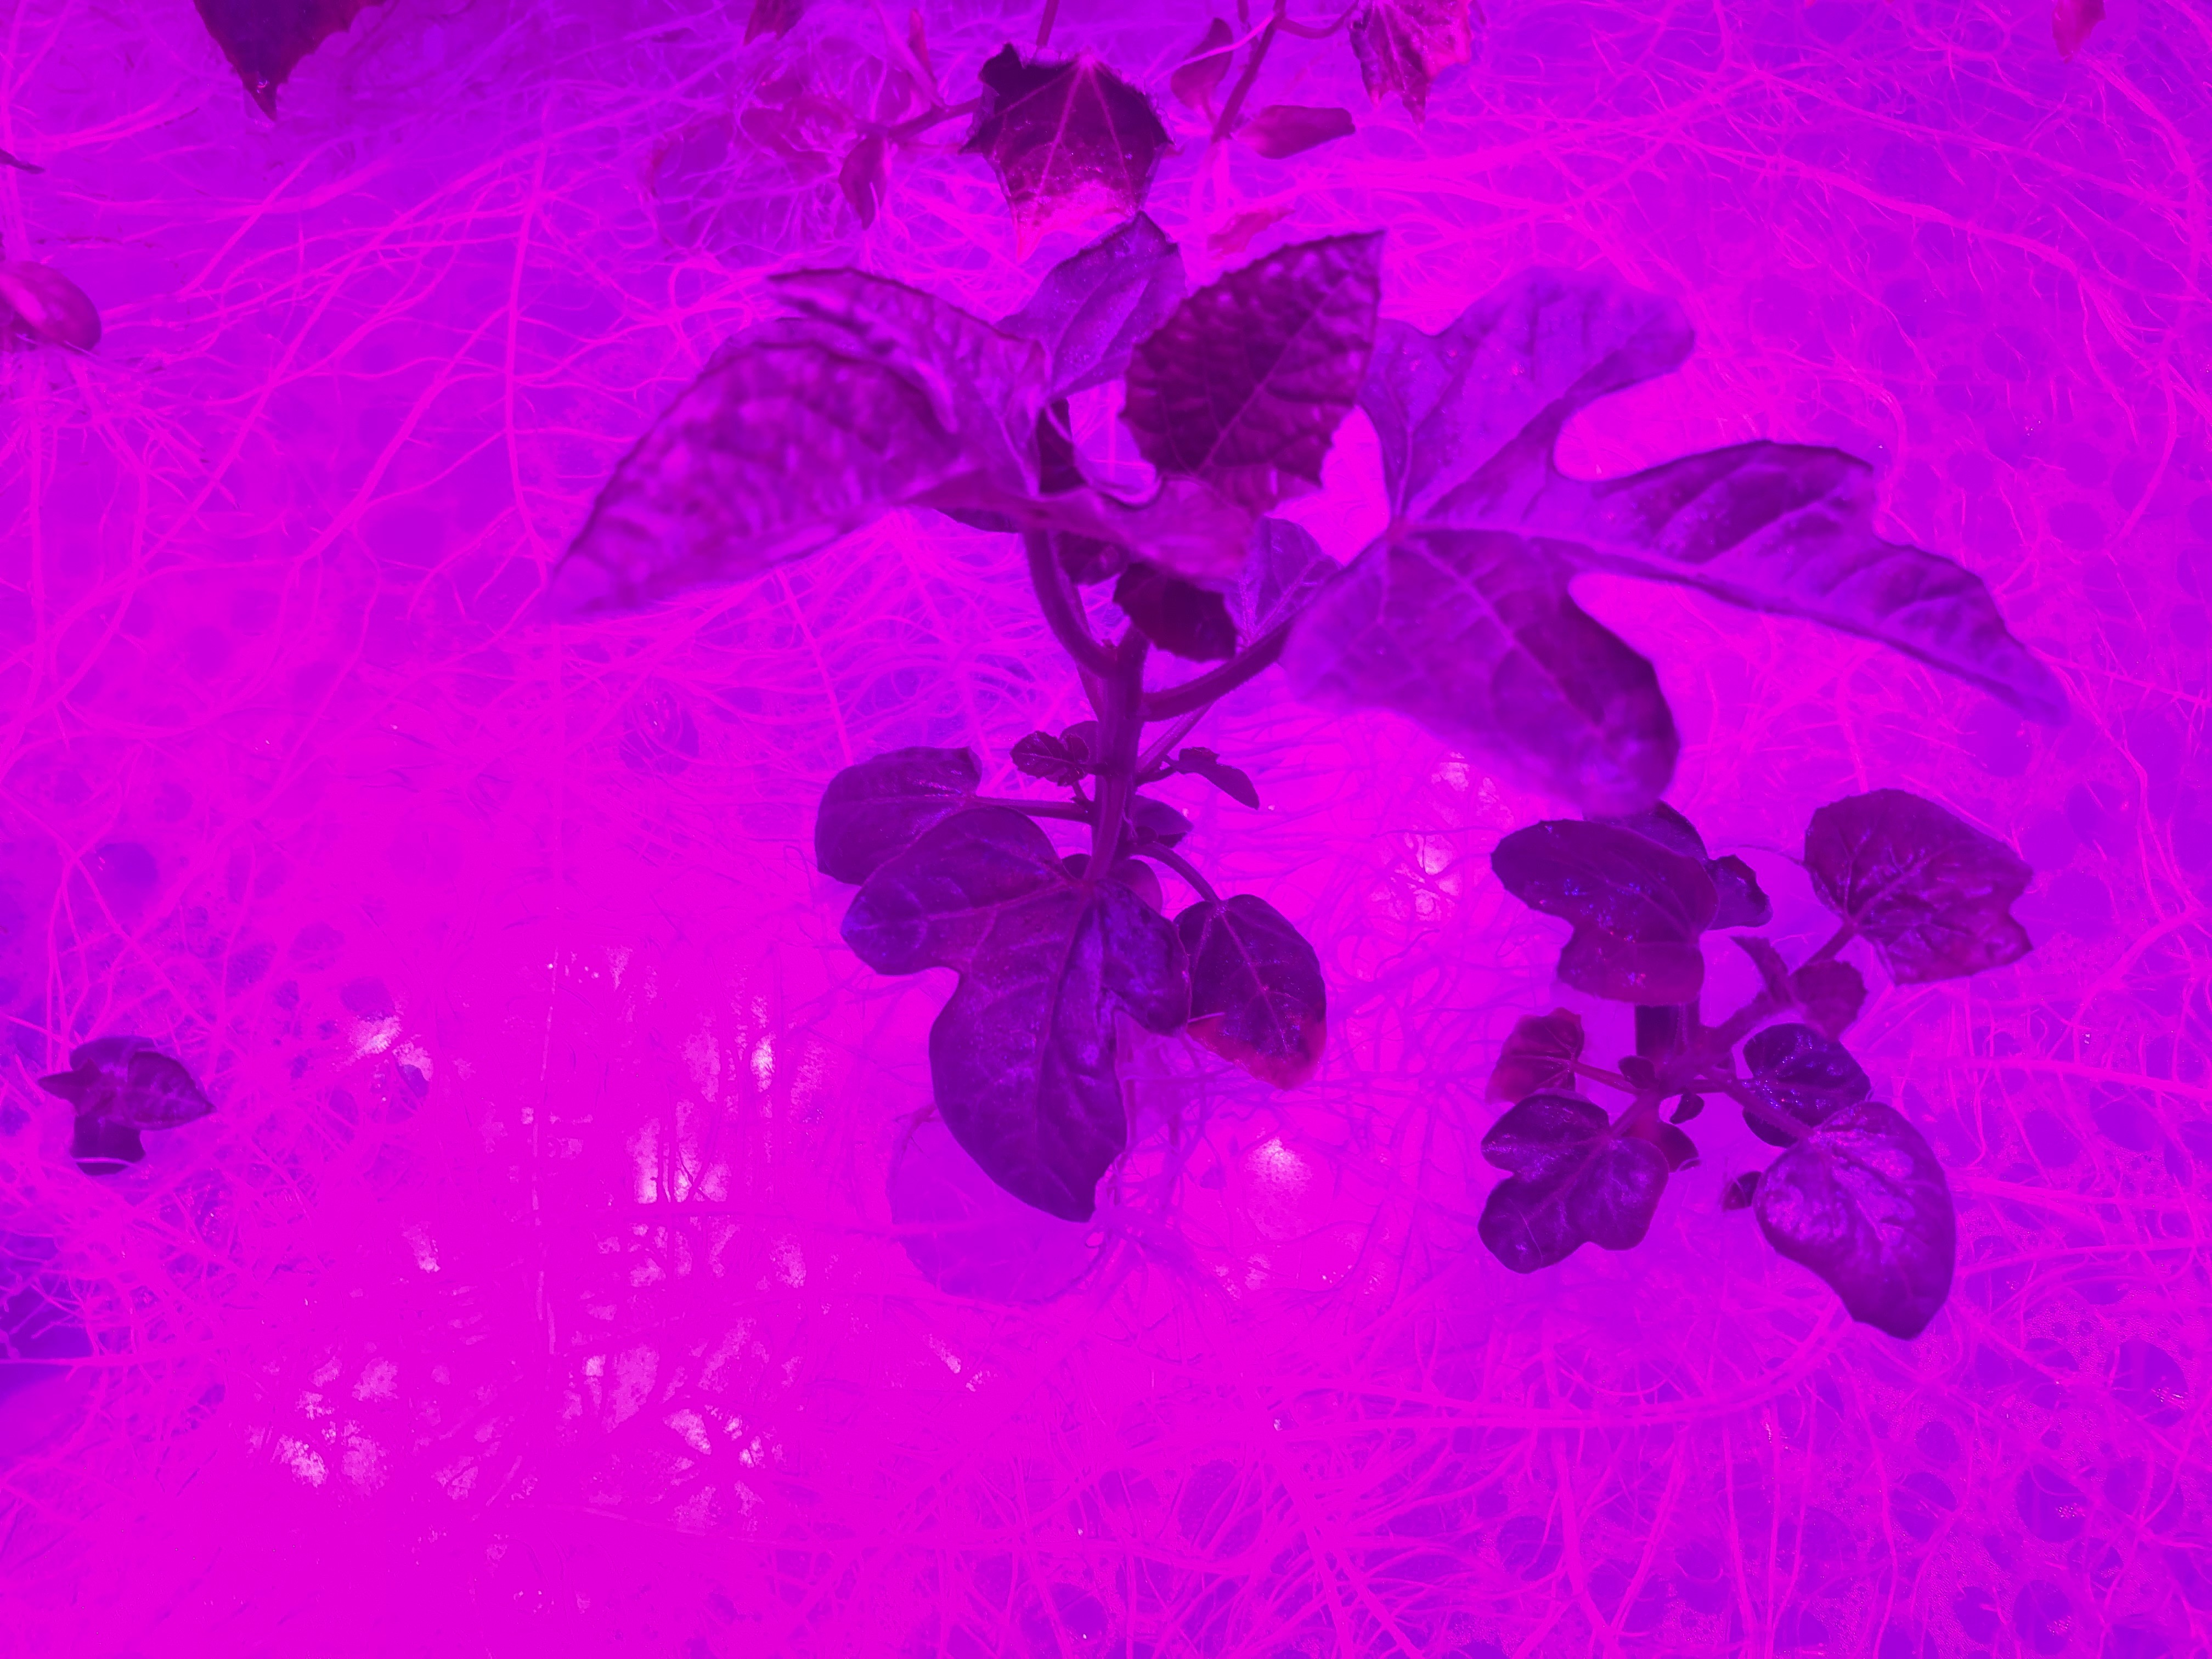lil_plant: (575, 183, 1517, 1246), (1409, 749, 2067, 1326)
